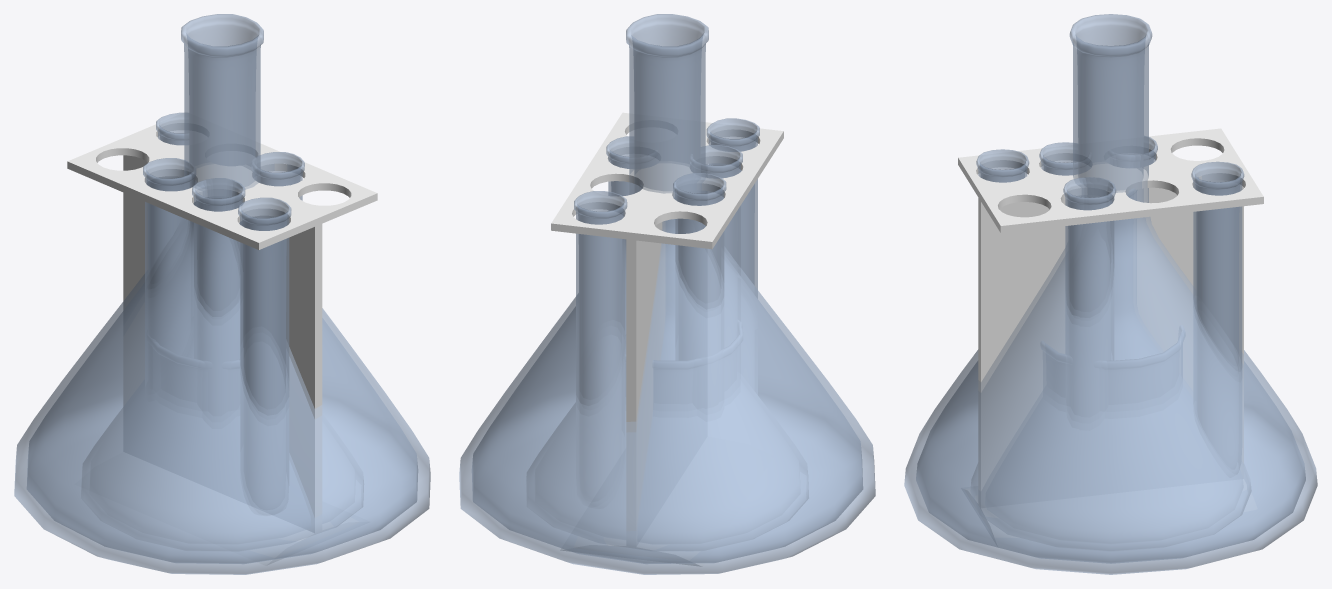
File: glassware.glb
3 renders of one model, left to right at view 1: azimuth 30°, elevation 25°; view 2: azimuth 150°, elevation 25°; view 3: azimuth 270°, elevation 25°, orthographic.
Parts seen in each view (by area): view 1: Beaker_glass_0, porta_provette_white1_0, smallBeaker, provetta4_glass_0, provetta3_glass_0, provetta2_glass_0, glass1_glass_0, provetta1_glass_0, provetta_glass_0; view 2: Beaker_glass_0, smallBeaker, porta_provette_white1_0, provetta_glass_0, provetta2_glass_0, provetta4_glass_0, provetta3_glass_0, glass1_glass_0, provetta1_glass_0; view 3: Beaker_glass_0, porta_provette_white1_0, smallBeaker, provetta_glass_0, provetta1_glass_0, glass1_glass_0, provetta4_glass_0, provetta3_glass_0, provetta2_glass_0.
Boxes of the visible parts, box(x1,y1,x2,y2) form: Beaker_glass_0: box(14, 14, 430, 574); porta_provette_white1_0: box(67, 112, 377, 565); smallBeaker: box(81, 182, 363, 544); provetta4_glass_0: box(238, 197, 291, 510); provetta3_glass_0: box(192, 178, 245, 416); provetta2_glass_0: box(143, 158, 195, 389); glass1_glass_0: box(154, 344, 239, 402); provetta1_glass_0: box(251, 152, 304, 200); provetta_glass_0: box(156, 112, 188, 145); Beaker_glass_0: box(459, 14, 875, 574); smallBeaker: box(526, 186, 808, 544); porta_provette_white1_0: box(551, 112, 783, 566); provetta_glass_0: box(574, 191, 627, 502); provetta2_glass_0: box(673, 173, 726, 408); provetta4_glass_0: box(706, 118, 759, 394); provetta3_glass_0: box(690, 145, 742, 347); glass1_glass_0: box(625, 322, 742, 404); provetta1_glass_0: box(606, 136, 648, 333); Beaker_glass_0: box(904, 14, 1317, 574); porta_provette_white1_0: box(958, 128, 1263, 547); smallBeaker: box(970, 190, 1251, 544); provetta_glass_0: box(1191, 161, 1244, 469); provetta1_glass_0: box(1063, 177, 1116, 417); glass1_glass_0: box(1041, 328, 1185, 404); provetta4_glass_0: box(976, 149, 1029, 182); provetta3_glass_0: box(1039, 142, 1090, 175); provetta2_glass_0: box(1114, 136, 1157, 167).
Size of the model in its own units: 2.84 by 3.59 by 2.84.
